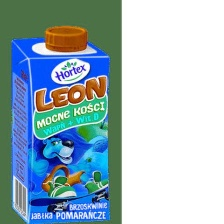carton: (6, 24, 121, 224)
